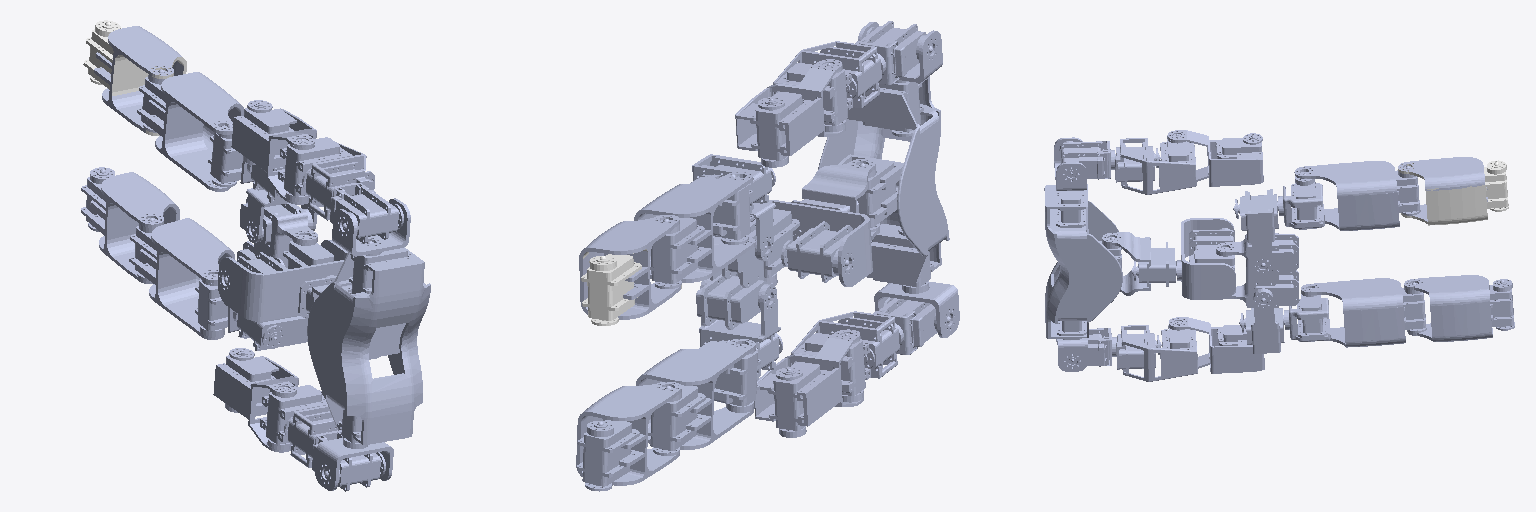
--- Facts derived from the render (not from the file) ---
3 views of the same robot in one strip: view 1: azimuth 30°, elevation 25°; view 2: azimuth 150°, elevation 25°; view 3: azimuth 270°, elevation 25° (orthographic).
Robot: ROBOT — 43 links, 42 joints (24 revolute, 18 fixed); root link right_hand; default pose: all joints at 0.
Links seen in each view (by area): view 1: cst_rt, cst4, rt_lg3, cst_lt, lt_lg5, lt_lg4, rt_lg5, lt_lg3, lt_hd7, right_hand, lt_hd2, rt_lg6 (+19 smaller); view 2: cst_lt, lt_lg5, rt_lg3, lt_hd7, rt_lg5, right_hand, hp_rt2, rt_lg6, lt_lg4, cst2, cst4, rt_hd2 (+22 smaller); view 3: lt_lg4, cst_rt, rt_lg5, lt_lg6, cst_lt, rt_lg3, cst4, lt_hd4, lt_lg5, rt_lg4, rt_hd1, lt_hd6 (+24 smaller).
Link boxes in pixels (x1=…): cst_rt: x1=307, y1=253, x2=430, y2=448; cst4: x1=218, y1=240, x2=347, y2=321; rt_lg3: x1=140, y1=218, x2=231, y2=335; cst_lt: x1=307, y1=241, x2=430, y2=444; lt_lg5: x1=94, y1=26, x2=183, y2=136; lt_lg4: x1=139, y1=72, x2=243, y2=189; rt_lg5: x1=90, y1=172, x2=176, y2=277; lt_lg3: x1=147, y1=86, x2=242, y2=191; lt_hd7: x1=231, y1=100, x2=316, y2=197; right_hand: x1=213, y1=348, x2=298, y2=452; lt_hd2: x1=330, y1=183, x2=403, y2=243; rt_lg6: x1=81, y1=167, x2=179, y2=283; cst_lt: x1=818, y1=76, x2=949, y2=284; lt_lg5: x1=579, y1=215, x2=704, y2=319; rt_lg3: x1=636, y1=339, x2=760, y2=449; lt_hd7: x1=735, y1=59, x2=842, y2=167; rt_lg5: x1=576, y1=382, x2=705, y2=485; right_hand: x1=755, y1=362, x2=863, y2=437; hp_rt2: x1=696, y1=274, x2=780, y2=373; rt_lg6: x1=577, y1=385, x2=681, y2=491; lt_lg4: x1=639, y1=171, x2=755, y2=278; cst2: x1=802, y1=158, x2=900, y2=240; cst4: x1=769, y1=199, x2=872, y2=286; rt_hd2: x1=791, y1=311, x2=897, y2=402; lt_lg4: x1=1295, y1=161, x2=1417, y2=229; cst_rt: x1=1044, y1=188, x2=1113, y2=339; rt_lg5: x1=1402, y1=275, x2=1493, y2=337; lt_lg6: x1=1398, y1=160, x2=1508, y2=225; cst_lt: x1=1045, y1=184, x2=1122, y2=338; rt_lg3: x1=1297, y1=278, x2=1405, y2=343; cst4: x1=1131, y1=218, x2=1235, y2=299; lt_hd4: x1=1111, y1=138, x2=1196, y2=194; lt_lg5: x1=1395, y1=157, x2=1487, y2=221; rt_lg4: x1=1301, y1=285, x2=1423, y2=347; rt_hd1: x1=1168, y1=317, x2=1264, y2=373; lt_hd6: x1=1167, y1=131, x2=1262, y2=186.
Bounding box of the posed robot: 0.1058 × 0.4693 × 0.2676 m (x, y, z).
43 mesh visuals loaded from 43 distinct referenced files (43 binary STL).

robot.urdf — ROBOT:
<?xml version="1.0" encoding="utf-8"?>
<!-- This URDF was automatically created by SolidWorks to URDF Exporter! Originally created by Stephen Brawner ([email redacted]) 
     Commit Version: 1.5.1-0-g916b5db  Build Version: 1.5.7152.31018
     For more information, please see http://wiki.ros.org/sw_urdf_exporter -->
<robot
  name="ROBOT">
  <link
    name="right_hand">
    <inertial>
      <origin
        xyz="-0.0163102012995232 -0.320825495838358 0.126429362091926"
        rpy="0 0 0" />
      <mass
        value="0.0493229808047624" />
      <inertia
        ixx="2.25735648396244E-05"
        ixy="-1.26985997507624E-07"
        ixz="6.65463986336816E-07"
        iyy="2.11116270310895E-05"
        iyz="-5.87144562095176E-08"
        izz="1.30647594264724E-05" />
    </inertial>
    <visual>
      <origin
        xyz="0 0 0"
        rpy="0 0 0" />
      <geometry>
        <mesh
          filename="package://ROBOT/meshes/right_hand.STL" />
      </geometry>
      <material
        name="">
        <color
          rgba="0.792156862745098 0.819607843137255 0.933333333333333 1" />
      </material>
    </visual>
    <collision>
      <origin
        xyz="0 0 0"
        rpy="0 0 0" />
      <geometry>
        <mesh
          filename="package://ROBOT/meshes/right_hand.STL" />
      </geometry>
    </collision>
  </link>
  <link
    name="rt_hd1">
    <inertial>
      <origin
        xyz="9.3909E-05 -0.00979 0.017312"
        rpy="0 0 0" />
      <mass
        value="0.049323" />
      <inertia
        ixx="4.2664E-05"
        ixy="1.7201E-07"
        ixz="-6.8049E-08"
        iyy="4.0589E-05"
        iyz="3.5033E-07"
        izz="1.6628E-05" />
    </inertial>
    <visual>
      <origin
        xyz="0 0 0"
        rpy="0 0 0" />
      <geometry>
        <mesh
          filename="package://ROBOT/meshes/rt_hd1.STL" />
      </geometry>
      <material
        name="">
        <color
          rgba="0.79216 0.81961 0.93333 1" />
      </material>
    </visual>
    <collision>
      <origin
        xyz="0 0 0"
        rpy="0 0 0" />
      <geometry>
        <mesh
          filename="package://ROBOT/meshes/rt_hd1.STL" />
      </geometry>
    </collision>
  </link>
  <joint
    name="rt1"
    type="revolute">
    <origin
      xyz="-0.023125 -0.15415 -0.32088"
      rpy="1.8368 -1.4948 -0.22434" />
    <parent
      link="right_hand" />
    <child
      link="rt_hd1" />
    <axis
      xyz="0 0 0" />
    <limit
      lower="0"
      upper="0"
      effort="0"
      velocity="0" />
  </joint>
  <link
    name="rt_hd2">
    <inertial>
      <origin
        xyz="0.0057500927332548 4.7499678333604E-05 0.0109075904659741"
        rpy="0 0 0" />
      <mass
        value="0.0501133137381766" />
      <inertia
        ixx="1.65111059589077E-05"
        ixy="4.78267941604931E-07"
        ixz="-2.66578912154405E-08"
        iyy="2.06736602892185E-05"
        iyz="-1.55047855929693E-07"
        izz="2.33169587066814E-05" />
    </inertial>
    <visual>
      <origin
        xyz="0 0 0"
        rpy="0 0 0" />
      <geometry>
        <mesh
          filename="package://ROBOT/meshes/rt_hd2.STL" />
      </geometry>
      <material
        name="">
        <color
          rgba="0.792156862745098 0.819607843137255 0.933333333333333 1" />
      </material>
    </visual>
    <collision>
      <origin
        xyz="0 0 0"
        rpy="0 0 0" />
      <geometry>
        <mesh
          filename="package://ROBOT/meshes/rt_hd2.STL" />
      </geometry>
    </collision>
  </link>
  <joint
    name="rt2"
    type="fixed">
    <origin
      xyz="-0.00755 -0.18573 -0.31154"
      rpy="3.0682 0.019969 -1.5299" />
    <parent
      link="right_hand" />
    <child
      link="rt_hd2" />
    <axis
      xyz="0 0 0" />
  </joint>
  <link
    name="rt_hd3">
    <inertial>
      <origin
        xyz="-0.00484676359112225 2.44125605286527E-08 -0.00298838857301598"
        rpy="0 0 0" />
      <mass
        value="0.050113313824405" />
      <inertia
        ixx="2.38157202616575E-05"
        ixy="-1.84776091071334E-12"
        ixz="-4.02421939436245E-06"
        iyy="2.99995688853337E-05"
        iyz="-1.37862058822309E-11"
        izz="1.32245957314896E-05" />
    </inertial>
    <visual>
      <origin
        xyz="0 0 0"
        rpy="0 0 0" />
      <geometry>
        <mesh
          filename="package://ROBOT/meshes/rt_hd3.STL" />
      </geometry>
      <material
        name="">
        <color
          rgba="0.792156862745098 0.819607843137255 0.933333333333333 1" />
      </material>
    </visual>
    <collision>
      <origin
        xyz="0 0 0"
        rpy="0 0 0" />
      <geometry>
        <mesh
          filename="package://ROBOT/meshes/rt_hd3.STL" />
      </geometry>
    </collision>
  </link>
  <joint
    name="fx1"
    type="fixed">
    <origin
      xyz="-0.0026959 -0.21758 -0.32348"
      rpy="-1.5508 0.073351 0.042402" />
    <parent
      link="right_hand" />
    <child
      link="rt_hd3" />
    <axis
      xyz="0 0 0" />
  </joint>
  <link
    name="rt_hd4">
    <inertial>
      <origin
        xyz="2.23522811371168E-10 0.00393153342789736 0.0137953960035062"
        rpy="0 0 0" />
      <mass
        value="0.0381962747714163" />
      <inertia
        ixx="1.32624398793731E-05"
        ixy="-1.66354324798115E-13"
        ixz="-2.24151992245795E-13"
        iyy="9.34323438966556E-06"
        iyz="-1.20717807146342E-06"
        izz="7.24082080260025E-06" />
    </inertial>
    <visual>
      <origin
        xyz="0 0 0"
        rpy="0 0 0" />
      <geometry>
        <mesh
          filename="package://ROBOT/meshes/rt_hd4.STL" />
      </geometry>
      <material
        name="">
        <color
          rgba="0.792156862745098 0.819607843137255 0.933333333333333 1" />
      </material>
    </visual>
    <collision>
      <origin
        xyz="0 0 0"
        rpy="0 0 0" />
      <geometry>
        <mesh
          filename="package://ROBOT/meshes/rt_hd4.STL" />
      </geometry>
    </collision>
  </link>
  <joint
    name="rt3"
    type="revolute">
    <origin
      xyz="-0.007678 -0.21779 -0.32311"
      rpy="1.8368 -1.4948 -0.22434" />
    <parent
      link="right_hand" />
    <child
      link="rt_hd4" />
    <axis
      xyz="0 0 0" />
    <limit
      lower="0"
      upper="0"
      effort="0"
      velocity="0" />
  </joint>
  <link
    name="rt_hd5">
    <inertial>
      <origin
        xyz="-8.50326475898555E-11 0.000328251101244015 0.0108538213177902"
        rpy="0 0 0" />
      <mass
        value="0.03819627470815" />
      <inertia
        ixx="1.21628762009816E-05"
        ixy="-1.23016712287117E-13"
        ixz="4.82609399814939E-14"
        iyy="6.86706659475975E-06"
        iyz="-1.72619012120363E-07"
        izz="8.6174249188285E-06" />
    </inertial>
    <visual>
      <origin
        xyz="0 0 0"
        rpy="0 0 0" />
      <geometry>
        <mesh
          filename="package://ROBOT/meshes/rt_hd5.STL" />
      </geometry>
      <material
        name="">
        <color
          rgba="0.792156862745098 0.819607843137255 0.933333333333333 1" />
      </material>
    </visual>
    <collision>
      <origin
        xyz="0 0 0"
        rpy="0 0 0" />
      <geometry>
        <mesh
          filename="package://ROBOT/meshes/rt_hd5.STL" />
      </geometry>
    </collision>
  </link>
  <joint
    name="fx2"
    type="fixed">
    <origin
      xyz="-0.007663 -0.27908 -0.32415"
      rpy="-0.26601 1.4948 2.9173" />
    <parent
      link="right_hand" />
    <child
      link="rt_hd5" />
    <axis
      xyz="0 0 0" />
  </joint>
  <link
    name="rt_hd6">
    <inertial>
      <origin
        xyz="-0.00243816110877965 0.00505451957643482 0.0108930196708061"
        rpy="0 0 0" />
      <mass
        value="0.043299300983994" />
      <inertia
        ixx="1.5001308432416E-05"
        ixy="8.76401321743241E-07"
        ixz="1.12939493216323E-08"
        iyy="1.19369791910267E-05"
        iyz="-1.78242525394842E-07"
        izz="9.44799128511338E-06" />
    </inertial>
    <visual>
      <origin
        xyz="0 0 0"
        rpy="0 0 0" />
      <geometry>
        <mesh
          filename="package://ROBOT/meshes/rt_hd6.STL" />
      </geometry>
      <material
        name="">
        <color
          rgba="0.792156862745098 0.819607843137255 0.933333333333333 1" />
      </material>
    </visual>
    <collision>
      <origin
        xyz="0 0 0"
        rpy="0 0 0" />
      <geometry>
        <mesh
          filename="package://ROBOT/meshes/rt_hd6.STL" />
      </geometry>
    </collision>
  </link>
  <joint
    name="rt4"
    type="revolute">
    <origin
      xyz="-0.007663 -0.27908 -0.32415"
      rpy="-0.26601 1.4948 2.9173" />
    <parent
      link="right_hand" />
    <child
      link="rt_hd6" />
    <axis
      xyz="0 0 0" />
    <limit
      lower="0"
      upper="0"
      effort="0"
      velocity="0" />
  </joint>
  <link
    name="rt_cst">
    <inertial>
      <origin
        xyz="-0.00841563377050301 -0.000231137329817166 -0.0169685084565206"
        rpy="0 0 0" />
      <mass
        value="0.0432993009628729" />
      <inertia
        ixx="1.55584781899671E-05"
        ixy="-1.15680894547992E-07"
        ixz="-2.68839640850832E-06"
        iyy="2.30385028200833E-05"
        iyz="-7.38373932064552E-08"
        izz="1.16071566431264E-05" />
    </inertial>
    <visual>
      <origin
        xyz="0 0 0"
        rpy="0 0 0" />
      <geometry>
        <mesh
          filename="package://ROBOT/meshes/rt_cst.STL" />
      </geometry>
      <material
        name="">
        <color
          rgba="0.792156862745098 0.819607843137255 0.933333333333333 1" />
      </material>
    </visual>
    <collision>
      <origin
        xyz="0 0 0"
        rpy="0 0 0" />
      <geometry>
        <mesh
          filename="package://ROBOT/meshes/rt_cst.STL" />
      </geometry>
    </collision>
  </link>
  <joint
    name="rt5"
    type="revolute">
    <origin
      xyz="-0.016526 -0.29316 -0.30267"
      rpy="3.1325 -0.073351 -3.0992" />
    <parent
      link="right_hand" />
    <child
      link="rt_cst" />
    <axis
      xyz="0 0 0" />
    <limit
      lower="0"
      upper="0"
      effort="0"
      velocity="0" />
  </joint>
  <link
    name="cst_rt">
    <inertial>
      <origin
        xyz="0.0012095017627321 0.000332834649199532 -0.0279268978027123"
        rpy="0 0 0" />
      <mass
        value="0.0918990177142678" />
      <inertia
        ixx="0.000241737402962432"
        ixy="9.24812875068998E-08"
        ixz="2.5645126695812E-06"
        iyy="0.000225183352834302"
        iyz="-5.53817557914628E-06"
        izz="6.48363982711543E-05" />
    </inertial>
    <visual>
      <origin
        xyz="0 0 0"
        rpy="0 0 0" />
      <geometry>
        <mesh
          filename="package://ROBOT/meshes/cst_rt.STL" />
      </geometry>
      <material
        name="">
        <color
          rgba="0.792156862745098 0.819607843137255 0.933333333333333 1" />
      </material>
    </visual>
    <collision>
      <origin
        xyz="0 0 0"
        rpy="0 0 0" />
      <geometry>
        <mesh
          filename="package://ROBOT/meshes/cst_rt.STL" />
      </geometry>
    </collision>
  </link>
  <joint
    name="fx3"
    type="fixed">
    <origin
      xyz="-0.00050596 -0.29317 -0.26901"
      rpy="3.068 0.0070435 -1.5564" />
    <parent
      link="right_hand" />
    <child
      link="cst_rt" />
    <axis
      xyz="0 0 0" />
  </joint>
  <link
    name="cst_lt">
    <inertial>
      <origin
        xyz="-0.0980734226650701 -0.000832834660747147 -0.0227904982943271"
        rpy="0 0 0" />
      <mass
        value="0.0918990178236686" />
      <inertia
        ixx="6.48363982956443E-05"
        ixy="-5.53460313763369E-06"
        ixz="-2.56476684600549E-06"
        iyy="0.000225181994494674"
        iyz="-9.24813596267292E-08"
        izz="0.000241736044621761" />
    </inertial>
    <visual>
      <origin
        xyz="0 0 0"
        rpy="0 0 0" />
      <geometry>
        <mesh
          filename="package://ROBOT/meshes/cst_lt.STL" />
      </geometry>
      <material
        name="">
        <color
          rgba="0.792156862745098 0.819607843137255 0.933333333333333 1" />
      </material>
    </visual>
    <collision>
      <origin
        xyz="0 0 0"
        rpy="0 0 0" />
      <geometry>
        <mesh
          filename="package://ROBOT/meshes/cst_lt.STL" />
      </geometry>
    </collision>
  </link>
  <joint
    name="fx4"
    type="fixed">
    <origin
      xyz="-0.00142939132393 -0.317012877198 -0.293147080334"
      rpy="-1.66632549051638 1.49688624686296 3.06067372934955" />
    <parent
      link="right_hand" />
    <child
      link="cst_lt" />
    <axis
      xyz="0 0 0" />
  </joint>
  <link
    name="lt_cst">
    <inertial>
      <origin
        xyz="0.00841563376122022 -0.000231137209976306 -0.0169685084145507"
        rpy="0 0 0" />
      <mass
        value="0.0432993010722741" />
      <inertia
        ixx="1.55584781766831E-05"
        ixy="1.15680940890512E-07"
        ixz="2.68839642147574E-06"
        iyy="2.30385028056689E-05"
        iyz="-7.38374292204935E-08"
        izz="1.1607156647348E-05" />
    </inertial>
    <visual>
      <origin
        xyz="0 0 0"
        rpy="0 0 0" />
      <geometry>
        <mesh
          filename="package://ROBOT/meshes/lt_cst.STL" />
      </geometry>
      <material
        name="">
        <color
          rgba="0.792156862745098 0.819607843137255 0.933333333333333 1" />
      </material>
    </visual>
    <collision>
      <origin
        xyz="0 0 0"
        rpy="0 0 0" />
      <geometry>
        <mesh
          filename="package://ROBOT/meshes/lt_cst.STL" />
      </geometry>
    </collision>
  </link>
  <joint
    name="rt6"
    type="revolute">
    <origin
      xyz="-0.003903 -0.29418 -0.13164"
      rpy="0.0090834 0.073351 0.042402" />
    <parent
      link="right_hand" />
    <child
      link="lt_cst" />
    <axis
      xyz="0 0 0" />
    <limit
      lower="0"
      upper="0"
      effort="0"
      velocity="0" />
  </joint>
  <link
    name="lt_hd1">
    <inertial>
      <origin
        xyz="0.000106980329266296 0.00841830354937323 0.0186537879185594"
        rpy="0 0 0" />
      <mass
        value="0.043299300983994" />
      <inertia
        ixx="9.48688373067974E-06"
        ixy="-1.78355407084667E-07"
        ixz="-1.3245880327693E-08"
        iyy="1.19570652156664E-05"
        iyz="-9.34886069552039E-07"
        izz="1.50201148533426E-05" />
    </inertial>
    <visual>
      <origin
        xyz="0 0 0"
        rpy="0 0 0" />
      <geometry>
        <mesh
          filename="package://ROBOT/meshes/lt_hd1.STL" />
      </geometry>
      <material
        name="">
        <color
          rgba="0.792156862745098 0.819607843137255 0.933333333333333 1" />
      </material>
    </visual>
    <collision>
      <origin
        xyz="0 0 0"
        rpy="0 0 0" />
      <geometry>
        <mesh
          filename="package://ROBOT/meshes/lt_hd1.STL" />
      </geometry>
    </collision>
  </link>
  <joint
    name="rt7"
    type="revolute">
    <origin
      xyz="-0.003903 -0.29418 -0.13164"
      rpy="0.0090834 0.073351 0.042402" />
    <parent
      link="right_hand" />
    <child
      link="lt_hd1" />
    <axis
      xyz="0 0 0" />
    <limit
      lower="0"
      upper="0"
      effort="0"
      velocity="0" />
  </joint>
  <link
    name="lt_hd2">
    <inertial>
      <origin
        xyz="-8.50326337120677E-11 0.000328251101244015 0.0108538213177902"
        rpy="0 0 0" />
      <mass
        value="0.03819627470815" />
      <inertia
        ixx="1.21628762009817E-05"
        ixy="-1.23016714219411E-13"
        ixz="4.82609396330441E-14"
        iyy="6.86706659475976E-06"
        iyz="-1.72619012120358E-07"
        izz="8.61742491882852E-06" />
    </inertial>
    <visual>
      <origin
        xyz="0 0 0"
        rpy="0 0 0" />
      <geometry>
        <mesh
          filename="package://ROBOT/meshes/lt_hd2.STL" />
      </geometry>
      <material
        name="">
        <color
          rgba="0.792156862745098 0.819607843137255 0.933333333333333 1" />
      </material>
    </visual>
    <collision>
      <origin
        xyz="0 0 0"
        rpy="0 0 0" />
      <geometry>
        <mesh
          filename="package://ROBOT/meshes/lt_hd2.STL" />
      </geometry>
    </collision>
  </link>
  <joint
    name="fx5"
    type="fixed">
    <origin
      xyz="0.00805084910969468 -0.280357349061473 -0.111231721518142"
      rpy="-0.266008567705967 1.49476650262346 2.9172512369486" />
    <parent
      link="right_hand" />
    <child
      link="lt_hd2" />
    <axis
      xyz="0 0 0" />
  </joint>
  <link
    name="lt_hd3">
    <inertial>
      <origin
        xyz="-0.00956846657210266 -2.23522755860017E-10 -0.0209546039964937"
        rpy="0 0 0" />
      <mass
        value="0.0381962747714163" />
      <inertia
        ixx="9.34323438966557E-06"
        ixy="1.66354317915973E-13"
        ixz="-1.20717807146344E-06"
        iyy="1.32624398793731E-05"
        iyz="2.24151996732423E-13"
        izz="7.24082080260028E-06" />
    </inertial>
    <visual>
      <origin
        xyz="0 0 0"
        rpy="0 0 0" />
      <geometry>
        <mesh
          filename="package://ROBOT/meshes/lt_hd3.STL" />
      </geometry>
      <material
        name="">
        <color
          rgba="0.792156862745098 0.819607843137255 0.933333333333333 1" />
      </material>
    </visual>
    <collision>
      <origin
        xyz="0 0 0"
        rpy="0 0 0" />
      <geometry>
        <mesh
          filename="package://ROBOT/meshes/lt_hd3.STL" />
      </geometry>
    </collision>
  </link>
  <joint
    name="rt8"
    type="revolute">
    <origin
      xyz="-0.003994 -0.25435 -0.1099"
      rpy="-1.5908 -0.073351 -3.0992" />
    <parent
      link="right_hand" />
    <child
      link="lt_hd3" />
    <axis
      xyz="0 0 0" />
    <limit
      lower="0"
      upper="0"
      effort="0"
      velocity="0" />
  </joint>
  <link
    name="lt_hd4">
    <inertial>
      <origin
        xyz="-2.44231346951951E-08 -0.000153236424689333 0.00298838857706041"
        rpy="0 0 0" />
      <mass
        value="0.0501133137811359" />
      <inertia
        ixx="2.99995688719413E-05"
        ixy="-1.83754952856424E-12"
        ixz="-1.37878401626342E-11"
        iyy="2.38157202557425E-05"
        iyz="-4.02421939620079E-06"
        izz="1.32245957105065E-05" />
    </inertial>
    <visual>
      <origin
        xyz="0 0 0"
        rpy="0 0 0" />
      <geometry>
        <mesh
          filename="package://ROBOT/meshes/lt_hd4.STL" />
      </geometry>
      <material
        name="">
        <color
          rgba="0.792156862745098 0.819607843137255 0.933333333333333 1" />
      </material>
    </visual>
    <collision>
      <origin
        xyz="0 0 0"
        rpy="0 0 0" />
      <geometry>
        <mesh
          filename="package://ROBOT/meshes/lt_hd4.STL" />
      </geometry>
    </collision>
  </link>
  <joint
    name="fx6"
    type="fixed">
    <origin
      xyz="0.00803586083000803 -0.219065171112886 -0.110191914963894"
      rpy="1.83680489450086 -1.49476650262346 -0.224341416641182" />
    <parent
      link="right_hand" />
    <child
      link="lt_hd4" />
    <axis
      xyz="0 0 0" />
  </joint>
  <link
    name="lt_hd5">
    <inertial>
      <origin
        xyz="-0.00441236431034694 -9.24095235315253E-05 0.0264999072881617"
        rpy="0 0 0" />
      <mass
        value="0.0501133136949076" />
      <inertia
        ixx="2.06736602577293E-05"
        ixy="1.55047866296302E-07"
        ixz="4.78267963598491E-07"
        iyy="2.33169586669206E-05"
        iyz="2.66579051080509E-08"
        izz="1.65111059373256E-05" />
    </inertial>
    <visual>
      <origin
        xyz="0 0 0"
        rpy="0 0 0" />
      <geometry>
        <mesh
          filename="package://ROBOT/meshes/lt_hd5.STL" />
      </geometry>
      <material
        name="">
        <color
          rgba="0.792156862745098 0.819607843137255 0.933333333333333 1" />
      </material>
    </visual>
    <collision>
      <origin
        xyz="0 0 0"
        rpy="0 0 0" />
      <geometry>
        <mesh
          filename="package://ROBOT/meshes/lt_hd5.STL" />
      </geometry>
    </collision>
  </link>
  <joint
    name="fx7"
    type="fixed">
    <origin
      xyz="0.0130179339765078 -0.218853795298466 -0.110558340164998"
      rpy="-1.55077349216558 0.0733507978949842 0.0424018504554837" />
    <parent
      link="right_hand" />
    <child
      link="lt_hd5" />
    <axis
      xyz="0 0 0" />
  </joint>
  <link
    name="lt_hd6">
    <inertial>
      <origin
        xyz="-0.0146881564425663 0.00371003647803711 0.0109060909485982"
        rpy="0 0 0" />
      <mass
        value="0.0493229807559933" />
      <inertia
        ixx="1.6628002616694E-05"
        ixy="3.50330933028167E-07"
        ixz="6.80489031248817E-08"
        iyy="4.05891434658861E-05"
        iyz="-1.72009179610243E-07"
        izz="4.26637553671881E-05" />
    </inertial>
    <visual>
      <origin
        xyz="0 0 0"
        rpy="0 0 0" />
      <geometry>
        <mesh
          filename="package://ROBOT/meshes/lt_hd6.STL" />
      </geometry>
      <material
        name="">
        <color
          rgba="0.792156862745098 0.819607843137255 0.933333333333333 1" />
      </material>
    </visual>
    <collision>
      <origin
        xyz="0 0 0"
        rpy="0 0 0" />
      <geometry>
        <mesh
          filename="package://ROBOT/meshes/lt_hd6.STL" />
      </geometry>
    </collision>
  </link>
  <joint
    name="rt9"
    type="revolute">
    <origin
      xyz="0.0081638 -0.18701 -0.098626"
      rpy="3.0682 0.019969 -1.5299" />
    <parent
      link="right_hand" />
    <child
      link="lt_hd6" />
    <axis
      xyz="0 0 0" />
    <limit
      lower="0"
      upper="0"
      effort="0"
      velocity="0" />
  </joint>
  <link
    name="lt_hd7">
    <inertial>
      <origin
        xyz="4.14234391845061E-05 -0.0020844728137468 0.0109060909682032"
        rpy="0 0 0" />
      <mass
        value="0.0493229807964677" />
      <inertia
        ixx="2.25108373627529E-05"
        ixy="1.06782585893629E-06"
        ixz="-1.85906393933654E-10"
        iyy="1.31408335366653E-05"
        iyz="-1.451709188695E-07"
        izz="2.10982801753563E-05" />
    </inertial>
    <visual>
      <origin
        xyz="0 0 0"
        rpy="0 0 0" />
      <geometry>
        <mesh
          filename="package://ROBOT/meshes/lt_hd7.STL" />
      </geometry>
      <material
        name="">
        <color
          rgba="0.792156862745098 0.819607843137255 0.933333333333333 1" />
      </material>
    </visual>
    <collision>
      <origin
        xyz="0 0 0"
        rpy="0 0 0" />
      <geometry>
        <mesh
          filename="package://ROBOT/meshes/lt_hd7.STL" />
      </geometry>
    </collision>
  </link>
  <joint
    name="fx8"
    type="fixed">
    <origin
      xyz="0.00016727 -0.1258 -0.096995"
      rpy="3.1216 -0.073351 -3.0992" />
    <parent
      link="right_hand" />
    <child
      link="lt_hd7" />
    <axis
      xyz="0 0 0" />
  </joint>
  <link
    name="cst1">
    <inertial>
      <origin
        xyz="-0.0749561949098609 0.000367912525850533 -0.0341951480814911"
        rpy="0 0 0" />
      <mass
        value="0.105414189800197" />
      <inertia
        ixx="9.35688631138857E-05"
        ixy="3.47227642609798E-09"
        ixz="-7.46273702126754E-08"
        iyy="0.000170739562423277"
        iyz="-3.95308803249801E-07"
        izz="0.000162493429960558" />
    </inertial>
    <visual>
      <origin
        xyz="0 0 0"
        rpy="0 0 0" />
      <geometry>
        <mesh
          filename="package://ROBOT/meshes/cst1.STL" />
      </geometry>
      <material
        name="">
        <color
          rgba="0.792156862745098 0.819607843137255 0.933333333333333 1" />
      </material>
    </visual>
    <collision>
      <origin
        xyz="0 0 0"
        rpy="0 0 0" />
      <geometry>
        <mesh
          filename="package://ROBOT/meshes/cst1.STL" />
      </geometry>
    </collision>
  </link>
  <joint
    name="fx9"
    type="fixed">
    <origin
      xyz="-0.00142939132393 -0.317012877198 -0.293147080334"
      rpy="-1.66632549051638 1.49688624686296 3.06067372934955" />
    <parent
      link="right_hand" />
    <child
      link="cst1" />
    <axis
      xyz="0 0 0" />
  </joint>
  <link
    name="cst2">
    <inertial>
      <origin
        xyz="-0.0111147614639186 -0.000149111921576073 0.0409998957563056"
        rpy="0 0 0" />
      <mass
        value="0.0454129361400356" />
      <inertia
        ixx="2.43683873018828E-05"
        ixy="-9.41512956926881E-09"
        ixz="1.75125856005546E-06"
        iyy="1.8403940737326E-05"
        iyz="1.99275730078987E-07"
        izz="1.24281212473909E-05" />
    </inertial>
    <visual>
      <origin
        xyz="0 0 0"
        rpy="0 0 0" />
      <geometry>
        <mesh
          filename="package://ROBOT/meshes/cst2.STL" />
      </geometry>
      <material
        name="">
        <color
          rgba="0.792156862745098 0.819607843137255 0.933333333333333 1" />
      </material>
    </visual>
    <collision>
      <origin
        xyz="0 0 0"
        rpy="0 0 0" />
      <geometry>
        <mesh
          filename="package://ROBOT/meshes/cst2.STL" />
      </geometry>
    </collision>
  </link>
  <joint
    name="rt10"
    type="revolute">
    <origin
      xyz="0.015073 -0.21397 -0.21854"
      rpy="1.5779 0.073572 0.01487" />
    <parent
      link="right_hand" />
    <child
      link="cst2" />
    <axis
      xyz="0 0 0" />
    <limit
      lower="0"
      upper="0"
      effort="0"
      velocity="0" />
  </joint>
  <link
    name="cst3">
    <inertial>
      <origin
        xyz="-0.00329223426869855 -4.71106921552666E-05 -0.000753427526618611"
        rpy="0 0 0" />
      <mass
        value="0.0454129361444135" />
      <inertia
        ixx="1.65143531370858E-05"
        ixy="-1.97342707351884E-08"
        ixz="1.28617390487537E-06"
        iyy="1.72888572470231E-05"
        iyz="8.36486511803466E-08"
        izz="1.2340973461751E-05" />
    </inertial>
    <visual>
      <origin
        xyz="0 0 0"
        rpy="0 0 0" />
      <geometry>
        <mesh
          filename="package://ROBOT/meshes/cst3.STL" />
      </geometry>
      <material
        name="">
        <color
          rgba="0.792156862745098 0.819607843137255 0.933333333333333 1" />
      </material>
    </visual>
    <collision>
      <origin
        xyz="0 0 0"
        rpy="0 0 0" />
      <geometry>
        <mesh
          filename="package://ROBOT/meshes/cst3.STL" />
      </geometry>
    </collision>
  </link>
  <joint
    name="fx10"
    type="fixed">
    <origin
      xyz="0.015073 -0.21397 -0.21854"
      rpy="1.5779 0.073572 0.01487" />
    <parent
      link="right_hand" />
    <child
      link="cst3" />
    <axis
      xyz="0 0 0" />
  </joint>
  <link
    name="cst4">
    <inertial>
      <origin
        xyz="1.04619559292973E-05 -0.0178256199360709 0.0117378412760603"
        rpy="0 0 0" />
      <mass
        value="0.0562812324148324" />
      <inertia
        ixx="6.85134645728968E-05"
        ixy="-3.06231197591081E-09"
        ixz="-9.01826718457396E-09"
        iyy="3.48587823512413E-05"
        iyz="5.49342364277868E-06"
        izz="4.21945696036351E-05" />
    </inertial>
    <visual>
      <origin
        xyz="0 0 0"
        rpy="0 0 0" />
      <geometry>
        <mesh
          filename="package://ROBOT/meshes/cst4.STL" />
      </geometry>
      <material
        name="">
        <color
          rgba="0.792156862745098 0.819607843137255 0.933333333333333 1" />
      </material>
    </visual>
    <collision>
      <origin
        xyz="0 0 0"
        rpy="0 0 0" />
      <geometry>
        <mesh
          filename="package://ROBOT/meshes/cst4.STL" />
      </geometry>
    </collision>
  </link>
  <joint
    name="rt11"
    type="revolute">
    <origin
      xyz="-0.0099509 -0.18109 -0.21655"
      rpy="1.6684 -1.4985 -0.083037" />
    <parent
      link="right_hand" />
    <child
      link="cst4" />
    <axis
      xyz="0 0 0" />
    <limit
      lower="0"
      upper="0"
      effort="0"
      velocity="0" />
  </joint>
  <link
    name="cst5">
    <inertial>
      <origin
        xyz="7.17940566996589E-08 0.00232685531102898 -0.0231268282321002"
        rpy="0 0 0" />
      <mass
        value="0.0562812324162897" />
      <inertia
        ixx="5.71181943943501E-05"
        ixy="-2.35269600407406E-10"
        ixz="-3.16310788894671E-11"
        iyy="1.93321110603632E-05"
        iyz="4.91237966157048E-06"
        izz="4.63259455463838E-05" />
    </inertial>
    <visual>
      <origin
        xyz="0 0 0"
        rpy="0 0 0" />
      <geometry>
        <mesh
          filename="package://ROBOT/meshes/cst5.STL" />
      </geometry>
      <material
        name="">
        <color
          rgba="0.792156862745098 0.819607843137255 0.933333333333333 1" />
      </material>
    </visual>
    <collision>
      <origin
        xyz="0 0 0"
        rpy="0 0 0" />
      <geometry>
        <mesh
          filename="package://ROBOT/meshes/cst5.STL" />
      </geometry>
    </collision>
  </link>
  <joint
    name="rt12"
    type="revolute">
    <origin
      xyz="-0.0099509 -0.18109 -0.21655"
      rpy="1.6684 -1.4985 -0.083037" />
    <parent
      link="right_hand" />
    <child
      link="cst5" />
    <axis
      xyz="0 0 0" />
    <limit
      lower="0"
      upper="0"
      effort="0"
      velocity="0" />
  </joint>
  <link
    name="cst6">
    <inertial>
      <origin
        xyz="0.0228074261698338 0.00286455764086471 0.0109324260800749"
        rpy="0 0 0" />
      <mass
        value="0.0685497524849513" />
      <inertia
        ixx="1.56196607454881E-05"
        ixy="-1.68098283036221E-07"
        ixz="-1.05647877872524E-07"
        iyy="4.78770015893145E-05"
        iyz="-1.68098218751353E-07"
        izz="5.12774678144984E-05" />
    </inertial>
    <visual>
      <origin
        xyz="0 0 0"
        rpy="0 0 0" />
      <geometry>
        <mesh
          filename="package://ROBOT/meshes/cst6.STL" />
      </geometry>
      <material
        name="">
        <color
          rgba="0.792156862745098 0.819607843137255 0.933333333333333 1" />
      </material>
    </visual>
    <collision>
      <origin
        xyz="0 0 0"
        rpy="0 0 0" />
      <geometry>
        <mesh
          filename="package://ROBOT/meshes/cst6.STL" />
      </geometry>
    </collision>
  </link>
  <joint
    name="rt13"
    type="revolute">
    <origin
      xyz="0.025352 -0.15314 -0.2079"
      rpy="3.1345 -0.071968 -3.1267" />
    <parent
      link="right_hand" />
    <child
      link="cst6" />
    <axis
      xyz="0 0 0" />
    <limit
      lower="0"
      upper="0"
      effort="0"
      velocity="0" />
  </joint>
  <link
    name="hp1">
    <inertial>
      <origin
        xyz="-8.57154097699819E-10 0.013856822737 0.0109072047120802"
        rpy="0 0 0" />
      <mass
        value="0.0499157348985926" />
      <inertia
        ixx="3.20265262553574E-05"
        ixy="1.3558663023034E-14"
        ixz="8.25536386236678E-13"
        iyy="1.46277773454512E-05"
        iyz="-2.19017208135167E-07"
        izz="2.31283636348029E-05" />
    </inertial>
    <visual>
      <origin
        xyz="0 0 0"
        rpy="0 0 0" />
      <geometry>
        <mesh
          filename="package://ROBOT/meshes/hp1.STL" />
      </geometry>
      <material
        name="">
        <color
          rgba="0.792156862745098 0.819607843137255 0.933333333333333 1" />
      </material>
    </visual>
    <collision>
      <origin
        xyz="0 0 0"
        rpy="0 0 0" />
      <geometry>
        <mesh
          filename="package://ROBOT/meshes/hp1.STL" />
      </geometry>
    </collision>
  </link>
  <joint
    name="rt14"
    type="revolute">
    <origin
      xyz="0.025352 -0.15314 -0.2079"
      rpy="3.1345 -0.071968 -3.1267" />
    <parent
      link="right_hand" />
    <child
      link="hp1" />
    <axis
      xyz="0 0 0" />
    <limit
      lower="0"
      upper="0"
      effort="0"
      velocity="0" />
  </joint>
  <link
    name="hp_rt1">
    <inertial>
      <origin
        xyz="-0.0137330994169311 9.27989081861147E-05 -0.017368802246405"
        rpy="0 0 0" />
      <mass
        value="0.0499157349123274" />
      <inertia
        ixx="1.91009717947468E-05"
        ixy="2.90291642749719E-08"
        ixz="-4.98125559616705E-06"
        iyy="2.54680194000843E-05"
        iyz="2.01760384538352E-07"
        izz="1.89237189532345E-05" />
    </inertial>
    <visual>
      <origin
        xyz="0 0 0"
        rpy="0 0 0" />
      <geometry>
        <mesh
          filename="package://ROBOT/meshes/hp_rt1.STL" />
      </geometry>
      <material
        name="">
        <color
          rgba="0.792156862745098 0.819607843137255 0.933333333333333 1" />
      </material>
    </visual>
    <collision>
      <origin
        xyz="0 0 0"
        rpy="0 0 0" />
      <geometry>
        <mesh
          filename="package://ROBOT/meshes/hp_rt1.STL" />
      </geometry>
    </collision>
  </link>
  <joint
    name="rt15"
    type="revolute">
    <origin
      xyz="0.024036 -0.11658 -0.21862"
      rpy="1.6684 -1.4985 -0.083037" />
    <parent
      link="right_hand" />
    <child
      link="hp_rt1" />
    <axis
      xyz="0 0 0" />
    <limit
      lower="0"
      upper="0"
      effort="0"
      velocity="0" />
  </joint>
  <link
    name="hp_rt2">
    <inertial>
      <origin
        xyz="-0.0087431021636763 0.00540360861466785 0.0125403225774553"
        rpy="0 0 0" />
      <mass
        value="0.047938077303404" />
      <inertia
        ixx="1.68682701597341E-05"
        ixy="2.53302986228072E-06"
        ixz="2.87257073364894E-06"
        iyy="2.42959600825018E-05"
        iyz="-6.1713092467998E-07"
        izz="2.06303179867235E-05" />
    </inertial>
    <visual>
      <origin
        xyz="0 0 0"
        rpy="0 0 0" />
      <geometry>
        <mesh
          filename="package://ROBOT/meshes/hp_rt2.STL" />
      </geometry>
      <material
        name="">
        <color
          rgba="0.792156862745098 0.819607843137255 0.933333333333333 1" />
      </material>
    </visual>
    <collision>
      <origin
        xyz="0 0 0"
        rpy="0 0 0" />
      <geometry>
        <mesh
          filename="package://ROBOT/meshes/hp_rt2.STL" />
      </geometry>
    </collision>
  </link>
  <joint
    name="rt16"
    type="revolute">
    <origin
      xyz="0.011231 -0.089122 -0.23758"
      rpy="-3.044 -1.4985 -0.083037" />
    <parent
      link="right_hand" />
    <child
      link="hp_rt2" />
    <axis
      xyz="0 0 0" />
    <limit
      lower="0"
      upper="0"
      effort="0"
      velocity="0" />
  </joint>
  <link
    name="hp_rt3">
    <inertial>
      <origin
        xyz="-0.000482570708724407 9.66305064008105E-05 -0.0109311508866686"
        rpy="0 0 0" />
      <mass
        value="0.0479380772810748" />
      <inertia
        ixx="1.26598713367001E-05"
        ixy="1.58387198391657E-07"
        ixz="-8.66079184887497E-08"
        iyy="1.72870240808461E-05"
        iyz="1.88457580545194E-08"
        izz="1.62767978451239E-05" />
    </inertial>
    <visual>
      <origin
        xyz="0 0 0"
        rpy="0 0 0" />
      <geometry>
        <mesh
          filename="package://ROBOT/meshes/hp_rt3.STL" />
      </geometry>
      <material
        name="">
        <color
          rgba="0.792156862745098 0.819607843137255 0.933333333333333 1" />
      </material>
    </visual>
    <collision>
      <origin
        xyz="0 0 0"
        rpy="0 0 0" />
      <geometry>
        <mesh
          filename="package://ROBOT/meshes/hp_rt3.STL" />
      </geometry>
    </collision>
  </link>
  <joint
    name="fx11"
    type="fixed">
    <origin
      xyz="0.020214 -0.10059 -0.26833"
      rpy="-0.063303 -0.071968 -3.1267" />
    <parent
      link="right_hand" />
    <child
      link="hp_rt3" />
    <axis
      xyz="0 0 0" />
  </joint>
  <link
    name="rt_lg1">
    <inertial>
      <origin
        xyz="-8.41863764822204E-05 0.00351783739731356 0.0183325992979206"
        rpy="0 0 0" />
      <mass
        value="0.0414933758038653" />
      <inertia
        ixx="2.31207986712755E-05"
        ixy="2.95190912565175E-08"
        ixz="1.24358814048749E-07"
        iyy="1.99125689543019E-05"
        iyz="-1.10233923425964E-06"
        izz="7.96042627964065E-06" />
    </inertial>
    <visual>
      <origin
        xyz="0 0 0"
        rpy="0 0 0" />
      <geometry>
        <mesh
          filename="package://ROBOT/meshes/rt_lg1.STL" />
      </geometry>
      <material
        name="">
        <color
          rgba="0.792156862745098 0.819607843137255 0.933333333333333 1" />
      </material>
    </visual>
    <collision>
      <origin
        xyz="0 0 0"
        rpy="0 0 0" />
      <geometry>
        <mesh
          filename="package://ROBOT/meshes/rt_lg1.STL" />
      </geometry>
    </collision>
  </link>
  <joint
    name="rt18"
    type="revolute">
    <origin
      xyz="0.020484 -0.11062 -0.28405"
      rpy="0.85056 1.475 2.4339" />
    <parent
      link="right_hand" />
    <child
      link="rt_lg1" />
    <axis
      xyz="0 0 0" />
    <limit
      lower="0"
      upper="0"
      effort="0"
      velocity="0" />
  </joint>
  <link
    name="rt_lg2">
    <inertial>
      <origin
        xyz="0.000688745760205875 0.000992353189250365 0.0108904154603287"
        rpy="0 0 0" />
      <mass
        value="0.0414933758146091" />
      <inertia
        ixx="1.19789886667809E-05"
        ixy="2.27163438691079E-07"
        ixz="-2.02928460914557E-09"
        iyy="9.01878841763455E-06"
        iyz="-1.60357527519252E-07"
        izz="9.41900232814107E-06" />
    </inertial>
    <visual>
      <origin
        xyz="0 0 0"
        rpy="0 0 0" />
      <geometry>
        <mesh
          filename="package://ROBOT/meshes/rt_lg2.STL" />
      </geometry>
      <material
        name="">
        <color
          rgba="0.792156862745098 0.819607843137255 0.933333333333333 1" />
      </material>
    </visual>
    <collision>
      <origin
        xyz="0 0 0"
        rpy="0 0 0" />
      <geometry>
        <mesh
          filename="package://ROBOT/meshes/rt_lg2.STL" />
      </geometry>
    </collision>
  </link>
  <joint
    name="fx12"
    type="fixed">
    <origin
      xyz="0.00543570504665 -0.0538904598507 -0.268452359008"
      rpy="3.14140942411946 0.0631387624489715 -1.56049544925053" />
    <parent
      link="right_hand" />
    <child
      link="rt_lg2" />
    <axis
      xyz="0 0 0" />
  </joint>
  <link
    name="rt_lg3">
    <inertial>
      <origin
        xyz="-0.00404781572665997 -0.0266874812354188 -8.59076009451787E-06"
        rpy="0 0 0" />
      <mass
        value="0.0740400414140271" />
      <inertia
        ixx="0.000100990389620268"
        ixy="-1.52351596000592E-07"
        ixz="9.11967136649736E-06"
        iyy="9.53340340730935E-05"
        iyz="-1.48317631992579E-07"
        izz="3.81665613533818E-05" />
    </inertial>
    <visual>
      <origin
        xyz="0 0 0"
        rpy="0 0 0" />
      <geometry>
        <mesh
          filename="package://ROBOT/meshes/rt_lg3.STL" />
      </geometry>
      <material
        name="">
        <color
          rgba="0.792156862745098 0.819607843137255 0.933333333333333 1" />
      </material>
    </visual>
    <collision>
      <origin
        xyz="0 0 0"
        rpy="0 0 0" />
      <geometry>
        <mesh
          filename="package://ROBOT/meshes/rt_lg3.STL" />
      </geometry>
    </collision>
  </link>
  <joint
    name="rt19"
    type="revolute">
    <origin
      xyz="0.0083244 -0.024167 -0.25079"
      rpy="1.6339 -0.0025335 0.053289" />
    <parent
      link="right_hand" />
    <child
      link="rt_lg3" />
    <axis
      xyz="0 0 0" />
    <limit
      lower="0"
      upper="0"
      effort="0"
      velocity="0" />
  </joint>
  <link
    name="rt_lg4">
    <inertial>
      <origin
        xyz="-0.00530501662063031 -0.0268126073717327 -0.0429782619172672"
        rpy="0 0 0" />
      <mass
        value="0.0740400414644888" />
      <inertia
        ixx="6.91399407384848E-05"
        ixy="-2.1980281023325E-08"
        ixz="-3.12183677517309E-06"
        iyy="6.08379153399E-05"
        iyz="7.8483093553375E-08"
        izz="3.55208898740706E-05" />
    </inertial>
    <visual>
      <origin
        xyz="0 0 0"
        rpy="0 0 0" />
      <geometry>
        <mesh
          filename="package://ROBOT/meshes/rt_lg4.STL" />
      </geometry>
      <material
        name="">
        <color
          rgba="0.792156862745098 0.819607843137255 0.933333333333333 1" />
      </material>
    </visual>
    <collision>
      <origin
        xyz="0 0 0"
        rpy="0 0 0" />
      <geometry>
        <mesh
          filename="package://ROBOT/meshes/rt_lg4.STL" />
      </geometry>
    </collision>
  </link>
  <joint
    name="fx13"
    type="fixed">
    <origin
      xyz="0.0083244276118 -0.0241670668902 -0.250794284233"
      rpy="1.63388457096017 -0.00253353869483999 0.0532886430594931" />
    <parent
      link="right_hand" />
    <child
      link="rt_lg4" />
    <axis
      xyz="0 0 0" />
  </joint>
  <link
    name="rt_lg5">
    <inertial>
      <origin
        xyz="0.00852259596529196 0.0303891400185281 0.0109323503568117"
        rpy="0 0 0" />
      <mass
        value="0.0701514630686541" />
      <inertia
        ixx="8.71430357781965E-05"
        ixy="-1.67258376309919E-05"
        ixz="-3.6926612828399E-08"
        iyy="3.35907606332375E-05"
        iyz="-2.93849542815166E-07"
        izz="8.18867666751845E-05" />
    </inertial>
    <visual>
      <origin
        xyz="0 0 0"
        rpy="0 0 0" />
      <geometry>
        <mesh
          filename="package://ROBOT/meshes/rt_lg5.STL" />
      </geometry>
      <material
        name="">
        <color
          rgba="0.792156862745098 0.819607843137255 0.933333333333333 1" />
      </material>
    </visual>
    <collision>
      <origin
        xyz="0 0 0"
        rpy="0 0 0" />
      <geometry>
        <mesh
          filename="package://ROBOT/meshes/rt_lg5.STL" />
      </geometry>
    </collision>
  </link>
  <joint
    name="rt20"
    type="revolute">
    <origin
      xyz="-0.0049552 0.036974 -0.28474"
      rpy="0.063088 -0.0025335 0.053289" />
    <parent
      link="right_hand" />
    <child
      link="rt_lg5" />
    <axis
      xyz="0 0 0" />
    <limit
      lower="0"
      upper="0"
      effort="0"
      velocity="0" />
  </joint>
  <link
    name="rt_lg6">
    <inertial>
      <origin
        xyz="0.0219555220460636 0.0266823503573657 -0.0452405308316412"
        rpy="0 0 0" />
      <mass
        value="0.0701514630687214" />
      <inertia
        ixx="5.61017514378888E-05"
        ixy="-1.62132875168818E-08"
        ixz="-3.72682601338907E-06"
        iyy="4.69455324581275E-05"
        iyz="9.17997011769697E-08"
        izz="2.96908107569131E-05" />
    </inertial>
    <visual>
      <origin
        xyz="0 0 0"
        rpy="0 0 0" />
      <geometry>
        <mesh
          filename="package://ROBOT/meshes/rt_lg6.STL" />
      </geometry>
      <material
        name="">
        <color
          rgba="0.792156862745098 0.819607843137255 0.933333333333333 1" />
      </material>
    </visual>
    <collision>
      <origin
        xyz="0 0 0"
        rpy="0 0 0" />
      <geometry>
        <mesh
          filename="package://ROBOT/meshes/rt_lg6.STL" />
      </geometry>
    </collision>
  </link>
  <joint
    name="fx14"
    type="fixed">
    <origin
      xyz="-0.0168228230341 0.0662916477519 -0.298661529477"
      rpy="1.63393480752987 0.000263048397864927 0.0090441589143757" />
    <parent
      link="right_hand" />
    <child
      link="rt_lg6" />
    <axis
      xyz="0 0 0" />
  </joint>
  <link
    name="hp_lt1">
    <inertial>
      <origin
        xyz="0.0137330903988257 9.27989116942946E-05 -0.0173688022462875"
        rpy="0 0 0" />
      <mass
        value="0.0499157349123274" />
      <inertia
        ixx="1.91009717946765E-05"
        ixy="-2.90308512759053E-08"
        ixz="4.98127202954983E-06"
        iyy="2.54680319796883E-05"
        iyz="2.01760385810593E-07"
        izz="1.89237315329384E-05" />
    </inertial>
    <visual>
      <origin
        xyz="0 0 0"
        rpy="0 0 0" />
      <geometry>
        <mesh
          filename="package://ROBOT/meshes/hp_lt1.STL" />
      </geometry>
      <material
        name="">
        <color
          rgba="0.792156862745098 0.819607843137255 0.933333333333333 1" />
      </material>
    </visual>
    <collision>
      <origin
        xyz="0 0 0"
        rpy="0 0 0" />
      <geometry>
        <mesh
          filename="package://ROBOT/meshes/hp_lt1.STL" />
      </geometry>
    </collision>
  </link>
  <joint
    name="rt22"
    type="revolute">
    <origin
      xyz="0.024036 -0.11658 -0.21862"
      rpy="1.6684 -1.4985 -0.083037" />
    <parent
      link="right_hand" />
    <child
      link="hp_lt1" />
    <axis
      xyz="0 0 0" />
    <limit
      lower="0"
      upper="0"
      effort="0"
      velocity="0" />
  </joint>
  <link
    name="hp_lt2">
    <inertial>
      <origin
        xyz="0.00874310176562484 0.00638808512223578 0.0125403217174583"
        rpy="0 0 0" />
      <mass
        value="0.0479380757797619" />
      <inertia
        ixx="1.75860092103292E-05"
        ixy="-3.84118916549211E-06"
        ixz="-2.87257020782761E-06"
        iyy="2.42959591990468E-05"
        iyz="-9.40578391886995E-07"
        izz="2.13480570151882E-05" />
    </inertial>
    <visual>
      <origin
        xyz="0 0 0"
        rpy="0 0 0" />
      <geometry>
        <mesh
          filename="package://ROBOT/meshes/hp_lt2.STL" />
      </geometry>
      <material
        name="">
        <color
          rgba="0.792156862745098 0.819607843137255 0.933333333333333 1" />
      </material>
    </visual>
    <collision>
      <origin
        xyz="0 0 0"
        rpy="0 0 0" />
      <geometry>
        <mesh
          filename="package://ROBOT/meshes/hp_lt2.STL" />
      </geometry>
    </collision>
  </link>
  <joint
    name="rt23"
    type="revolute">
    <origin
      xyz="0.014111 -0.089362 -0.19769"
      rpy="-3.044 -1.4985 -0.083037" />
    <parent
      link="right_hand" />
    <child
      link="hp_lt2" />
    <axis
      xyz="0 0 0" />
    <limit
      lower="0"
      upper="0"
      effort="0"
      velocity="0" />
  </joint>
  <link
    name="hp_lt3">
    <inertial>
      <origin
        xyz="-0.000482569813991182 -9.66258726435854E-05 -0.0109311512763113"
        rpy="0 0 0" />
      <mass
        value="0.0479380757574327" />
      <inertia
        ixx="1.26598709522666E-05"
        ixy="-1.58380657920075E-07"
        ixz="-8.66087450714375E-08"
        iyy="1.72870231563049E-05"
        iyz="-1.88495607500301E-08"
        izz="1.62767973450486E-05" />
    </inertial>
    <visual>
      <origin
        xyz="0 0 0"
        rpy="0 0 0" />
      <geometry>
        <mesh
          filename="package://ROBOT/meshes/hp_lt3.STL" />
      </geometry>
      <material
        name="">
        <color
          rgba="0.792156862745098 0.819607843137255 0.933333333333333 1" />
      </material>
    </visual>
    <collision>
      <origin
        xyz="0 0 0"
        rpy="0 0 0" />
      <geometry>
        <mesh
          filename="package://ROBOT/meshes/hp_lt3.STL" />
      </geometry>
    </collision>
  </link>
  <joint
    name="rt24"
    type="revolute">
    <origin
      xyz="0.027456 -0.10456 -0.16871"
      rpy="3.0783 -0.071968 -3.1267" />
    <parent
      link="right_hand" />
    <child
      link="hp_lt3" />
    <axis
      xyz="0 0 0" />
    <limit
      lower="0"
      upper="0"
      effort="0"
      velocity="0" />
  </joint>
  <link
    name="lt_lg1">
    <inertial>
      <origin
        xyz="-2.95772709768549E-07 0.00351488038915587 0.0183325991072477"
        rpy="0 0 0" />
      <mass
        value="0.0414933757377172" />
      <inertia
        ixx="2.31188086408067E-05"
        ixy="-1.09505033109985E-09"
        ixz="-9.51759403378682E-10"
        iyy="1.99124021809363E-05"
        iyz="-1.09801973207462E-06"
        izz="7.95827040010207E-06" />
    </inertial>
    <visual>
      <origin
        xyz="0 0 0"
        rpy="0 0 0" />
      <geometry>
        <mesh
          filename="package://ROBOT/meshes/lt_lg1.STL" />
      </geometry>
      <material
        name="">
        <color
          rgba="0.792156862745098 0.819607843137255 0.933333333333333 1" />
      </material>
    </visual>
    <collision>
      <origin
        xyz="0 0 0"
        rpy="0 0 0" />
      <geometry>
        <mesh
          filename="package://ROBOT/meshes/lt_lg1.STL" />
      </geometry>
    </collision>
  </link>
  <joint
    name="rt25"
    type="revolute">
    <origin
      xyz="0.029906 -0.11645 -0.15456"
      rpy="0.85056 1.475 2.4339" />
    <parent
      link="right_hand" />
    <child
      link="lt_lg1" />
    <axis
      xyz="0 0 0" />
    <limit
      lower="0"
      upper="0"
      effort="0"
      velocity="0" />
  </joint>
  <link
    name="lt_lg2">
    <inertial>
      <origin
        xyz="-0.000688745763734136 0.000992353127156006 0.0108863118241491"
        rpy="0 0 0" />
      <mass
        value="0.041493375802569" />
      <inertia
        ixx="1.19789506193347E-05"
        ixy="-2.27163517539996E-07"
        ixz="4.35155115649688E-09"
        iyy="9.01875040726302E-06"
        iyz="-1.58494190433054E-07"
        izz="9.41900240862501E-06" />
    </inertial>
    <visual>
      <origin
        xyz="0 0 0"
        rpy="0 0 0" />
      <geometry>
        <mesh
          filename="package://ROBOT/meshes/lt_lg2.STL" />
      </geometry>
      <material
        name="">
        <color
          rgba="0.792156862745098 0.819607843137255 0.933333333333333 1" />
      </material>
    </visual>
    <collision>
      <origin
        xyz="0 0 0"
        rpy="0 0 0" />
      <geometry>
        <mesh
          filename="package://ROBOT/meshes/lt_lg2.STL" />
      </geometry>
    </collision>
  </link>
  <joint
    name="fx15"
    type="fixed">
    <origin
      xyz="0.0140734106281718 -0.0583530216005303 -0.160829053700392"
      rpy="0.070155769851146 -0.0631387624530931 1.58109720437816" />
    <parent
      link="right_hand" />
    <child
      link="lt_lg2" />
    <axis
      xyz="0 0 0" />
  </joint>
  <link
    name="lt_lg3">
    <inertial>
      <origin
        xyz="0.0304788580304306 0.00395456089024675 0.0109373932276191"
        rpy="0 0 0" />
      <mass
        value="0.0740400440387013" />
      <inertia
        ixx="3.73164821006365E-05"
        ixy="3.37879928745558E-07"
        ixz="-1.41220805282223E-07"
        iyy="0.000101258395525317"
        iyz="-1.73319653423741E-07"
        izz="9.47519628093113E-05" />
    </inertial>
    <visual>
      <origin
        xyz="0 0 0"
        rpy="0 0 0" />
      <geometry>
        <mesh
          filename="package://ROBOT/meshes/lt_lg3.STL" />
      </geometry>
      <material
        name="">
        <color
          rgba="0.792156862745098 0.819607843137255 0.933333333333333 1" />
      </material>
    </visual>
    <collision>
      <origin
        xyz="0 0 0"
        rpy="0 0 0" />
      <geometry>
        <mesh
          filename="package://ROBOT/meshes/lt_lg3.STL" />
      </geometry>
    </collision>
  </link>
  <joint
    name="rt26"
    type="revolute">
    <origin
      xyz="0.014073 -0.058353 -0.16083"
      rpy="0.070156 -0.063139 1.5811" />
    <parent
      link="right_hand" />
    <child
      link="lt_lg3" />
    <axis
      xyz="0 0 0" />
    <limit
      lower="0"
      upper="0"
      effort="0"
      velocity="0" />
  </joint>
  <link
    name="lt_lg4">
    <inertial>
      <origin
        xyz="-0.00530501575270741 -0.026812606772486 -0.0429782606527737"
        rpy="0 0 0" />
      <mass
        value="0.0740400440383718" />
      <inertia
        ixx="6.91399435935343E-05"
        ixy="-2.19825630223205E-08"
        ixz="-3.12183990760291E-06"
        iyy="6.0837919061258E-05"
        iyz="7.84816130956102E-08"
        izz="3.55208902839098E-05" />
    </inertial>
    <visual>
      <origin
        xyz="0 0 0"
        rpy="0 0 0" />
      <geometry>
        <mesh
          filename="package://ROBOT/meshes/lt_lg4.STL" />
      </geometry>
      <material
        name="">
        <color
          rgba="0.792156862745098 0.819607843137255 0.933333333333333 1" />
      </material>
    </visual>
    <collision>
      <origin
        xyz="0 0 0"
        rpy="0 0 0" />
      <geometry>
        <mesh
          filename="package://ROBOT/meshes/lt_lg4.STL" />
      </geometry>
    </collision>
  </link>
  <joint
    name="fx16"
    type="fixed">
    <origin
      xyz="0.0138501539311 -0.030246269822 -0.121138034793"
      rpy="1.63703793271122 0.067234340943287 0.0577135005052033" />
    <parent
      link="right_hand" />
    <child
      link="lt_lg4" />
    <axis
      xyz="0 0 0" />
  </joint>
  <link
    name="lt_lg5">
    <inertial>
      <origin
        xyz="0.00753231060940665 0.0307462076194768 0.0109323121169543"
        rpy="0 0 0" />
      <mass
        value="0.0701514620457734" />
      <inertia
        ixx="8.85497897233735E-05"
        ixy="-1.48870987899351E-05"
        ixz="-3.23741966855435E-08"
        iyy="3.24444067395609E-05"
        iyz="-2.95338075617272E-07"
        izz="8.21470822034564E-05" />
    </inertial>
    <visual>
      <origin
        xyz="0 0 0"
        rpy="0 0 0" />
      <geometry>
        <mesh
          filename="package://ROBOT/meshes/lt_lg5.STL" />
      </geometry>
      <material
        name="">
        <color
          rgba="0.792156862745098 0.819607843137255 0.933333333333333 1" />
      </material>
    </visual>
    <collision>
      <origin
        xyz="0 0 0"
        rpy="0 0 0" />
      <geometry>
        <mesh
          filename="package://ROBOT/meshes/lt_lg5.STL" />
      </geometry>
    </collision>
  </link>
  <joint
    name="rt27"
    type="revolute">
    <origin
      xyz="-0.0020314 0.030808 -0.15411"
      rpy="0.066242 0.067234 0.057714" />
    <parent
      link="right_hand" />
    <child
      link="lt_lg5" />
    <axis
      xyz="0 0 0" />
    <limit
      lower="0"
      upper="0"
      effort="0"
      velocity="0" />
  </joint>
  <link
    name="lt_lg6">
    <inertial>
      <origin
        xyz="0 0 0"
        rpy="0 0 0" />
      <mass
        value="0" />
      <inertia
        ixx="0"
        ixy="0"
        ixz="0"
        iyy="0"
        iyz="0"
        izz="0" />
    </inertial>
    <visual>
      <origin
        xyz="0 0 0"
        rpy="0 0 0" />
      <geometry>
        <mesh
          filename="package://ROBOT/meshes/lt_lg6.STL" />
      </geometry>
      <material
        name="">
        <color
          rgba="1 1 1 1" />
      </material>
    </visual>
    <collision>
      <origin
        xyz="0 0 0"
        rpy="0 0 0" />
      <geometry>
        <mesh
          filename="package://ROBOT/meshes/lt_lg6.STL" />
      </geometry>
    </collision>
  </link>
  <joint
    name="fx17"
    type="fixed">
    <origin
      xyz="0.000256680164393 0.118894219031 -0.148770335178"
      rpy="0.0662509227580857 0.067225160797709 0.0578521870803215" />
    <parent
      link="right_hand" />
    <child
      link="lt_lg6" />
    <axis
      xyz="0 0 0" />
  </joint>
</robot>
